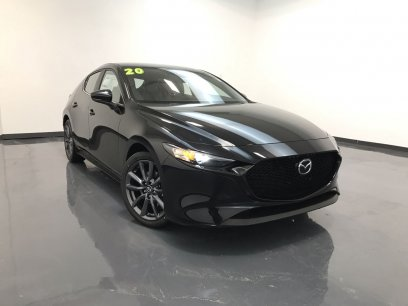Mazda3 Hatchback: (61, 62, 344, 231)
